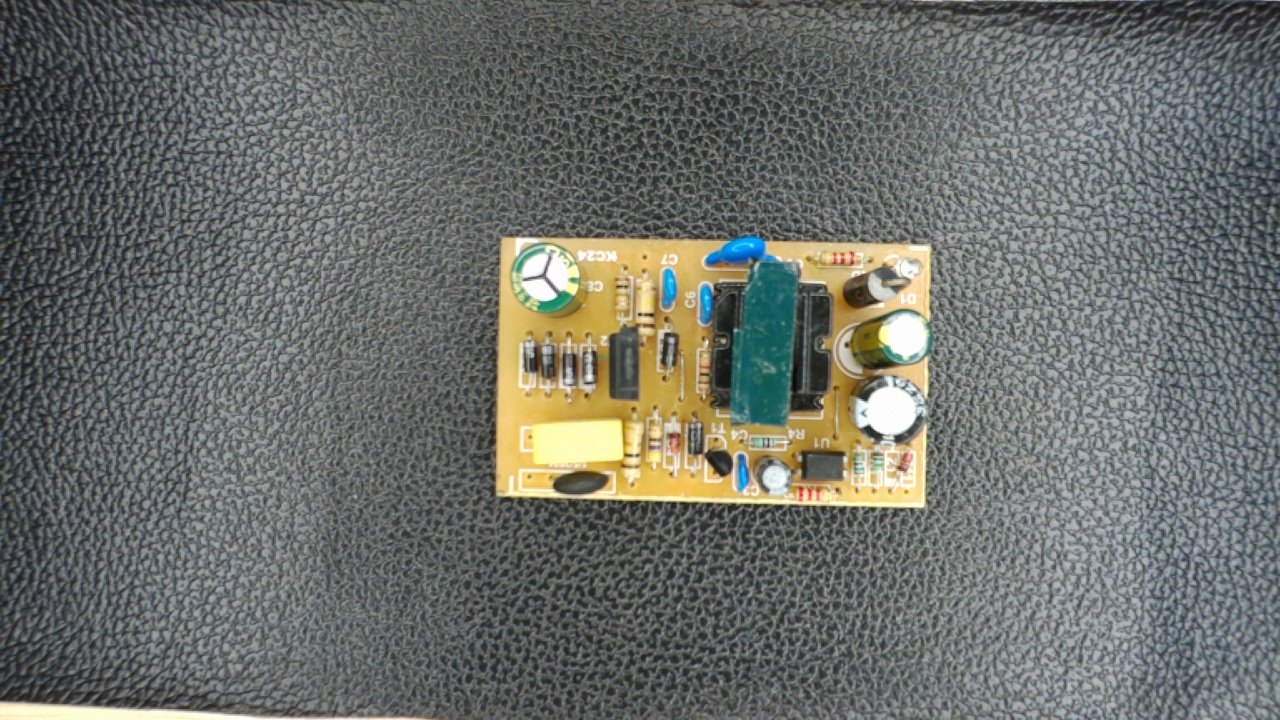fuse: (542, 464, 617, 498)
hv_capacitor: (506, 242, 588, 317)
mov: (699, 237, 783, 264)
optocoupler: (786, 444, 851, 485)
